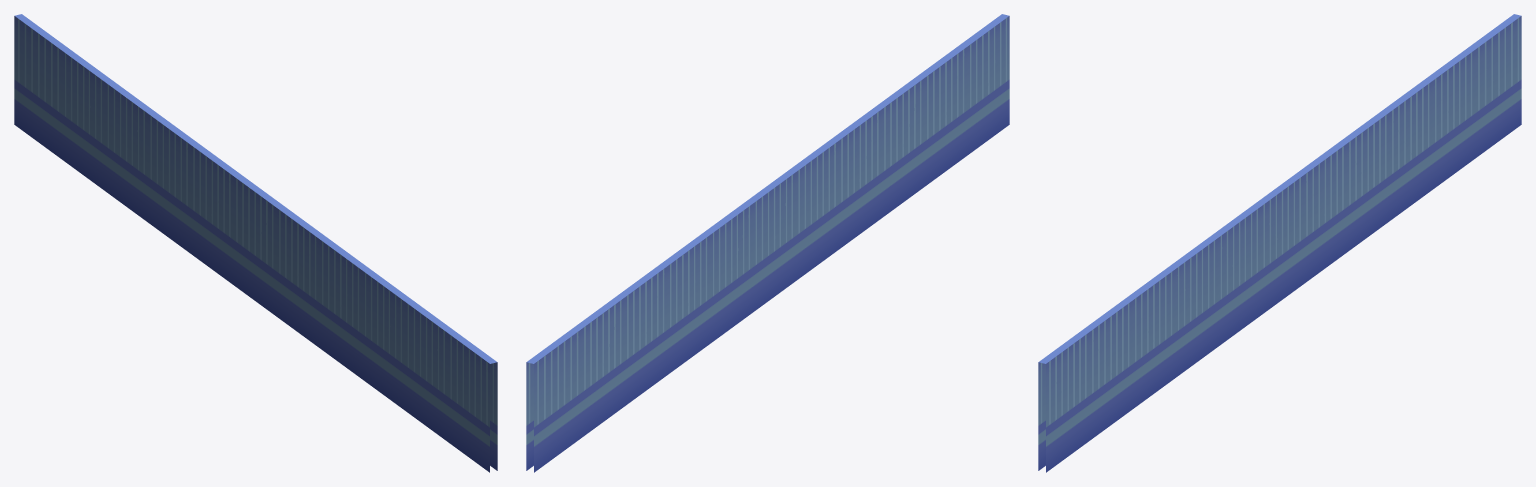
File: Tienda1_Divider.fbx
3 views of the same model, side by side, from view 1: azimuth 30°, elevation 25°; view 2: azimuth 150°, elevation 25°; view 3: azimuth 330°, elevation 25° (orthographic).
Visible parts, largest first — view 1: WallDivider; view 2: WallDivider; view 3: WallDivider.
Part boxes in pixels (bbox=[...]): WallDivider: bbox=[14, 14, 497, 472]; WallDivider: bbox=[526, 14, 1009, 472]; WallDivider: bbox=[1038, 14, 1521, 472].
Size of the model in its own units: 10 by 140 by 1110.
